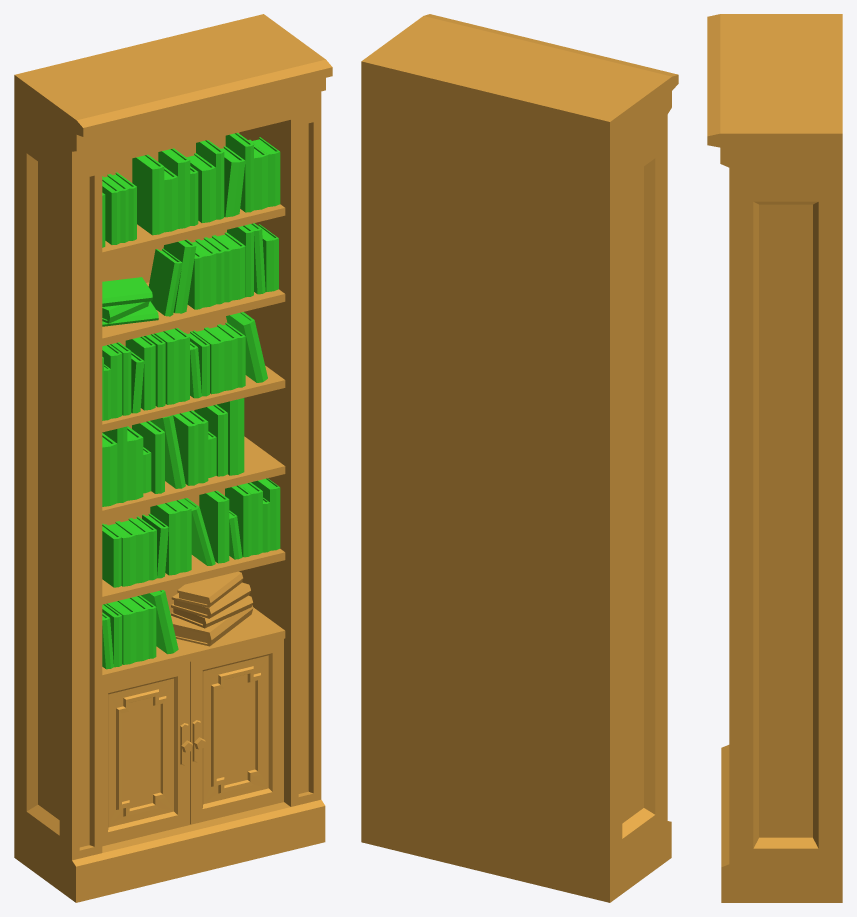
Rendered from Sm_Bookcase_Modular_Cabinet_Filled_1m_A.fbx.
3 renders of one model, left to right at view 1: azimuth 30°, elevation 25°; view 2: azimuth 150°, elevation 25°; view 3: azimuth 270°, elevation 25°, orthographic.
Visible parts, largest first — view 1: library-modular-cabinet-filled-1m-a-base, library-modular-cabinet-filled-1m-a-door-r, library-modular-cabinet-filled-1m-a-door-l; view 2: library-modular-cabinet-filled-1m-a-base; view 3: library-modular-cabinet-filled-1m-a-base.
Part boxes in pixels (x1,y1,x2,y2): library-modular-cabinet-filled-1m-a-base: [14, 14, 332, 902]; library-modular-cabinet-filled-1m-a-door-r: [190, 639, 283, 824]; library-modular-cabinet-filled-1m-a-door-l: [102, 661, 192, 846]; library-modular-cabinet-filled-1m-a-base: [361, 14, 678, 902]; library-modular-cabinet-filled-1m-a-base: [707, 14, 842, 902].
Bounding box in the file's own units: 1 × 3 × 0.4778.
